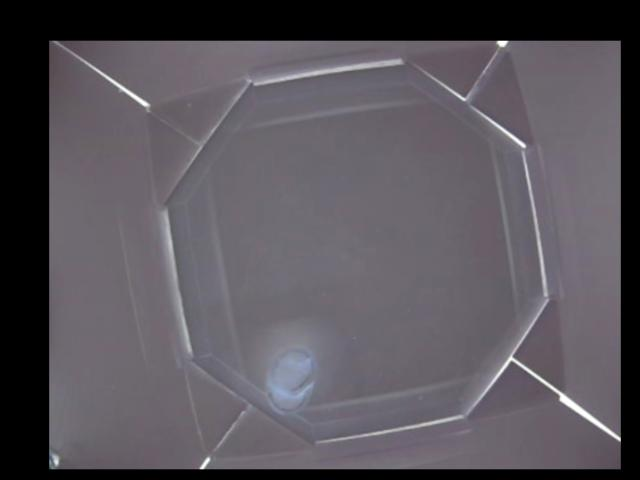Pebble: (265, 349, 313, 413)
